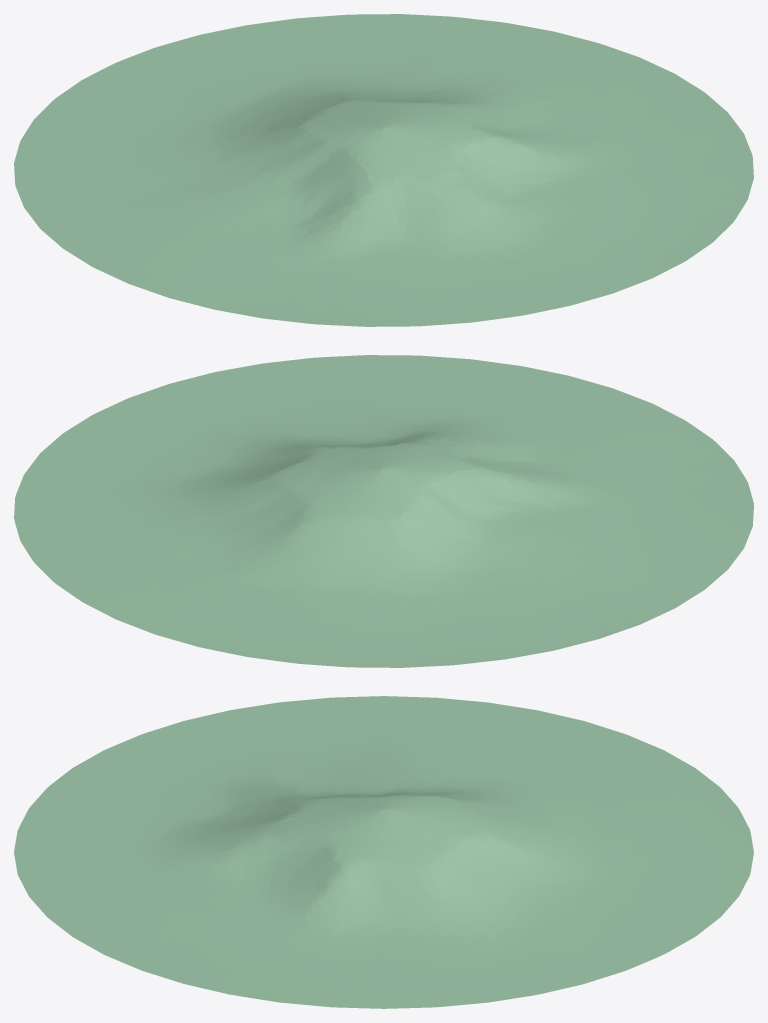
Rendered from island_coral_small_B.fbx.
3 renders of one model, top to bottom at view 1: azimuth 30°, elevation 25°; view 2: azimuth 150°, elevation 25°; view 3: azimuth 270°, elevation 25°, orthographic.
Parts seen in each view (by area): view 1: island_coral_small_B; view 2: island_coral_small_B; view 3: island_coral_small_B.
Boxes of the visible parts, bbox=[...] form: island_coral_small_B: bbox=[14, 14, 753, 326]; island_coral_small_B: bbox=[14, 355, 753, 667]; island_coral_small_B: bbox=[14, 696, 753, 1008].
Bounding box in the file's own units: 6897 × 442 × 6897.
